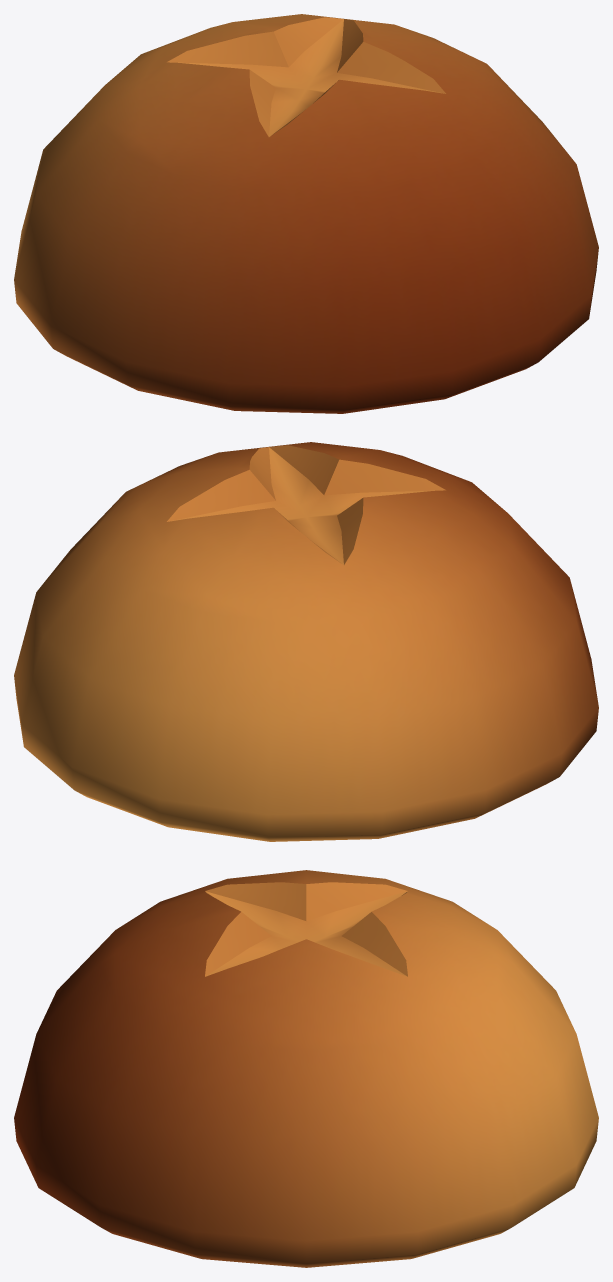
File: Bread.fbx
3 renders of one model, top to bottom at view 1: azimuth 30°, elevation 25°; view 2: azimuth 150°, elevation 25°; view 3: azimuth 270°, elevation 25°, orthographic.
Parts seen in each view (by area): view 1: Bread; view 2: Bread; view 3: Bread.
Boxes of the visible parts, x1,y1,x2,y2 form: Bread: (14, 14, 598, 413); Bread: (14, 442, 598, 841); Bread: (14, 870, 598, 1267).
Size of the model in its own units: 719 by 326 by 719.
